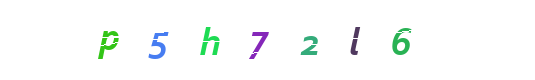2: (228, 0, 308, 80)
5: (118, 0, 198, 80)
6: (315, 0, 395, 80)
7: (227, 0, 307, 80)
H: (220, 0, 300, 80)
L: (260, 0, 340, 80)
P: (67, 0, 147, 80)
